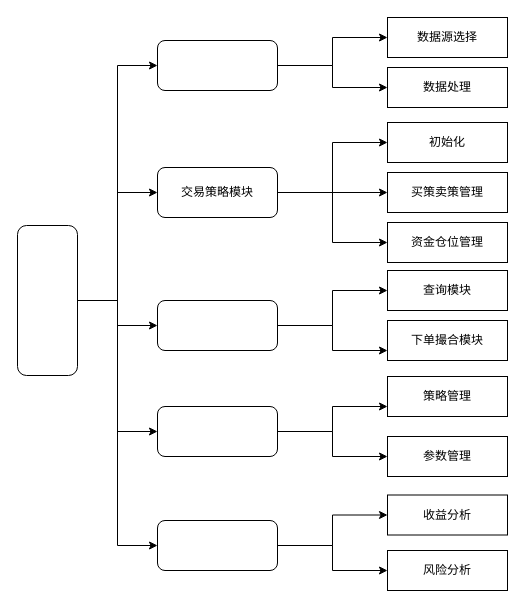
This 525x608 diagram has some shape labels left out. The shapes that lost their labels are listed below. From the top down, each one's centre as x and y in pixels, then its label:
point 217,65: 数据加载模块
point 47,300: 量 化 回 测 系 统
point 217,325: 模拟交易模块
point 217,431: 可视化模块
point 217,545: 分析模块
